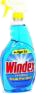grozi_26: (0, 0, 35, 93)
